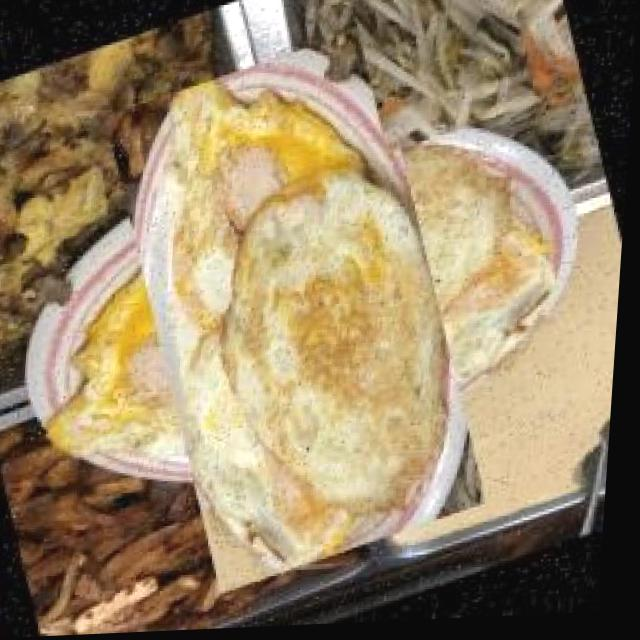fried_eggs: (45, 60, 556, 565)
mung_bean_sprouts: (312, 0, 563, 144)
